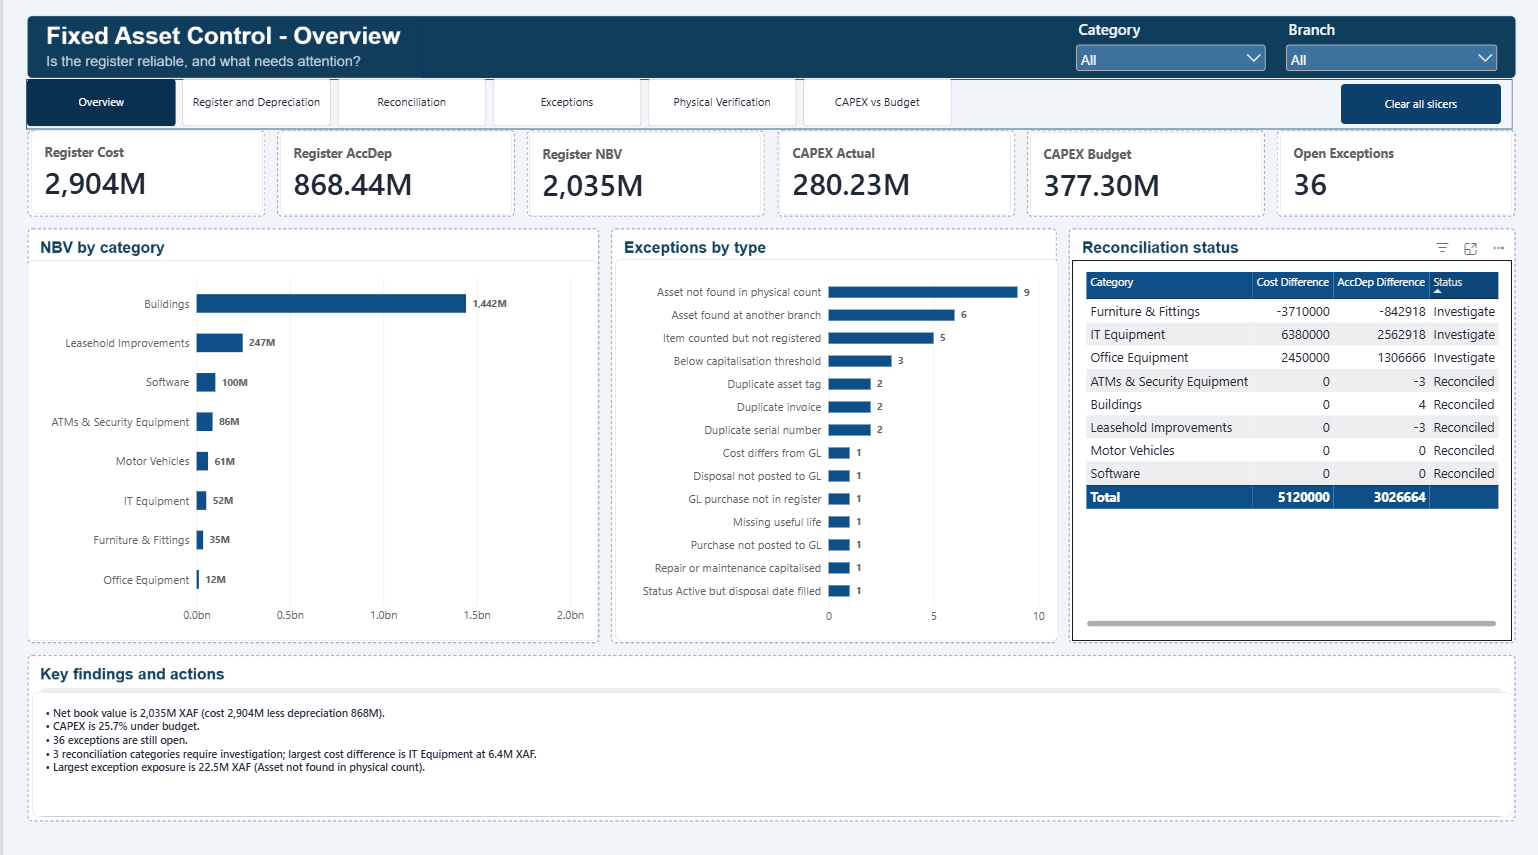

What the dashboard file says about the page in this screenshot:
{"tool":"powerbi","page":{"name":"Overview","canvas":[1920,1080],"ordinal":0},"visuals":[{"type":"shape","box":[48,866,1824,156],"z":0},{"type":"shape","box":[524,26,1362,72],"z":1000},{"type":"shape","box":[28.3,100,1858.3,63],"z":2000},{"type":"cardVisual","fields":{"Data":["DAX Measures.Register Cost"]},"box":[35,164.3,290,105],"z":3000},{"type":"cardVisual","fields":{"Data":["DAX Measures.Register NBV"]},"box":[657.1,165.7,290,105],"z":4000},{"type":"cardVisual","fields":{"Data":["DAX Measures.CAPEX Actual"]},"box":[970,165,290,105],"z":5000},{"type":"cardVisual","fields":{"Data":["DAX Measures.CAPEX Budget"]},"box":[1283.8,166.2,290,105],"z":6000},{"type":"cardVisual","fields":{"Data":["DAX Measures.Open Exceptions"]},"box":[1595.7,165,290,105],"z":7000},{"type":"cardVisual","fields":{"Data":["DAX Measures.Register AccDep"]},"box":[345.7,165,290,105],"z":8000},{"type":"clusteredBarChart","fields":{"Category":["tblPolicy.Category"],"Y":["DAX Measures.Register NBV"]},"box":[30,326,714,476],"z":9000},{"type":"barChart","fields":{"Category":["qExceptions_All.Issue_Type"],"Y":["DAX Measures.Exception Count"]},"box":[765.4,324.7,554.3,477.8],"z":10000},{"type":"tableEx","fields":{"Values":["tblPolicy.Category","DAX Measures.Cost Difference","DAX Measures.AccDep Difference","qReconciliation 1.Status"]},"box":[1336.2,325.8,549.5,476.2],"z":11000},{"type":"slicer","fields":{"Values":["tblPolicy.Category"]},"box":[1336.7,25,246.8,65],"z":12000},{"type":"slicer","fields":{"Values":["dimBranches.Branch"]},"box":[1598.4,25.1,273.8,65.6],"z":13000},{"type":"pageNavigator","box":[30,100,1158,59],"z":14000},{"type":"shape","box":[30,1036,1856,30],"z":15000},{"type":"actionButton","box":[1672,106,200,50],"z":16000},{"type":"cardVisual","fields":{"Data":["DAX Measures.Key Findings Text"]},"box":[36,866,1852,156],"z":17000}]}

Visuals, with their boxes in screenshot pixels (x1, y1, x2, y2), scaled from the page's 1920x1080 canvas onto the 1538x855 screenshot:
shape: 38:686:1500:809
shape: 420:21:1511:78
shape: 23:79:1511:129
cardVisual - DAX Measures.Register Cost: 28:130:260:213
cardVisual - DAX Measures.Register NBV: 526:131:759:214
cardVisual - DAX Measures.CAPEX Actual: 777:131:1009:214
cardVisual - DAX Measures.CAPEX Budget: 1028:132:1261:215
cardVisual - DAX Measures.Open Exceptions: 1278:131:1511:214
cardVisual - DAX Measures.Register AccDep: 277:131:509:214
clusteredBarChart - tblPolicy.Category x DAX Measures.Register NBV: 24:258:596:635
barChart - qExceptions_All.Issue_Type x DAX Measures.Exception Count: 613:257:1057:635
tableEx - tblPolicy.Category x DAX Measures.Cost Difference: 1070:258:1511:635
slicer - tblPolicy.Category: 1071:20:1268:71
slicer - dimBranches.Branch: 1280:20:1500:72
pageNavigator: 24:79:952:126
shape: 24:820:1511:844
actionButton: 1339:84:1500:124
cardVisual - DAX Measures.Key Findings Text: 29:686:1512:809
